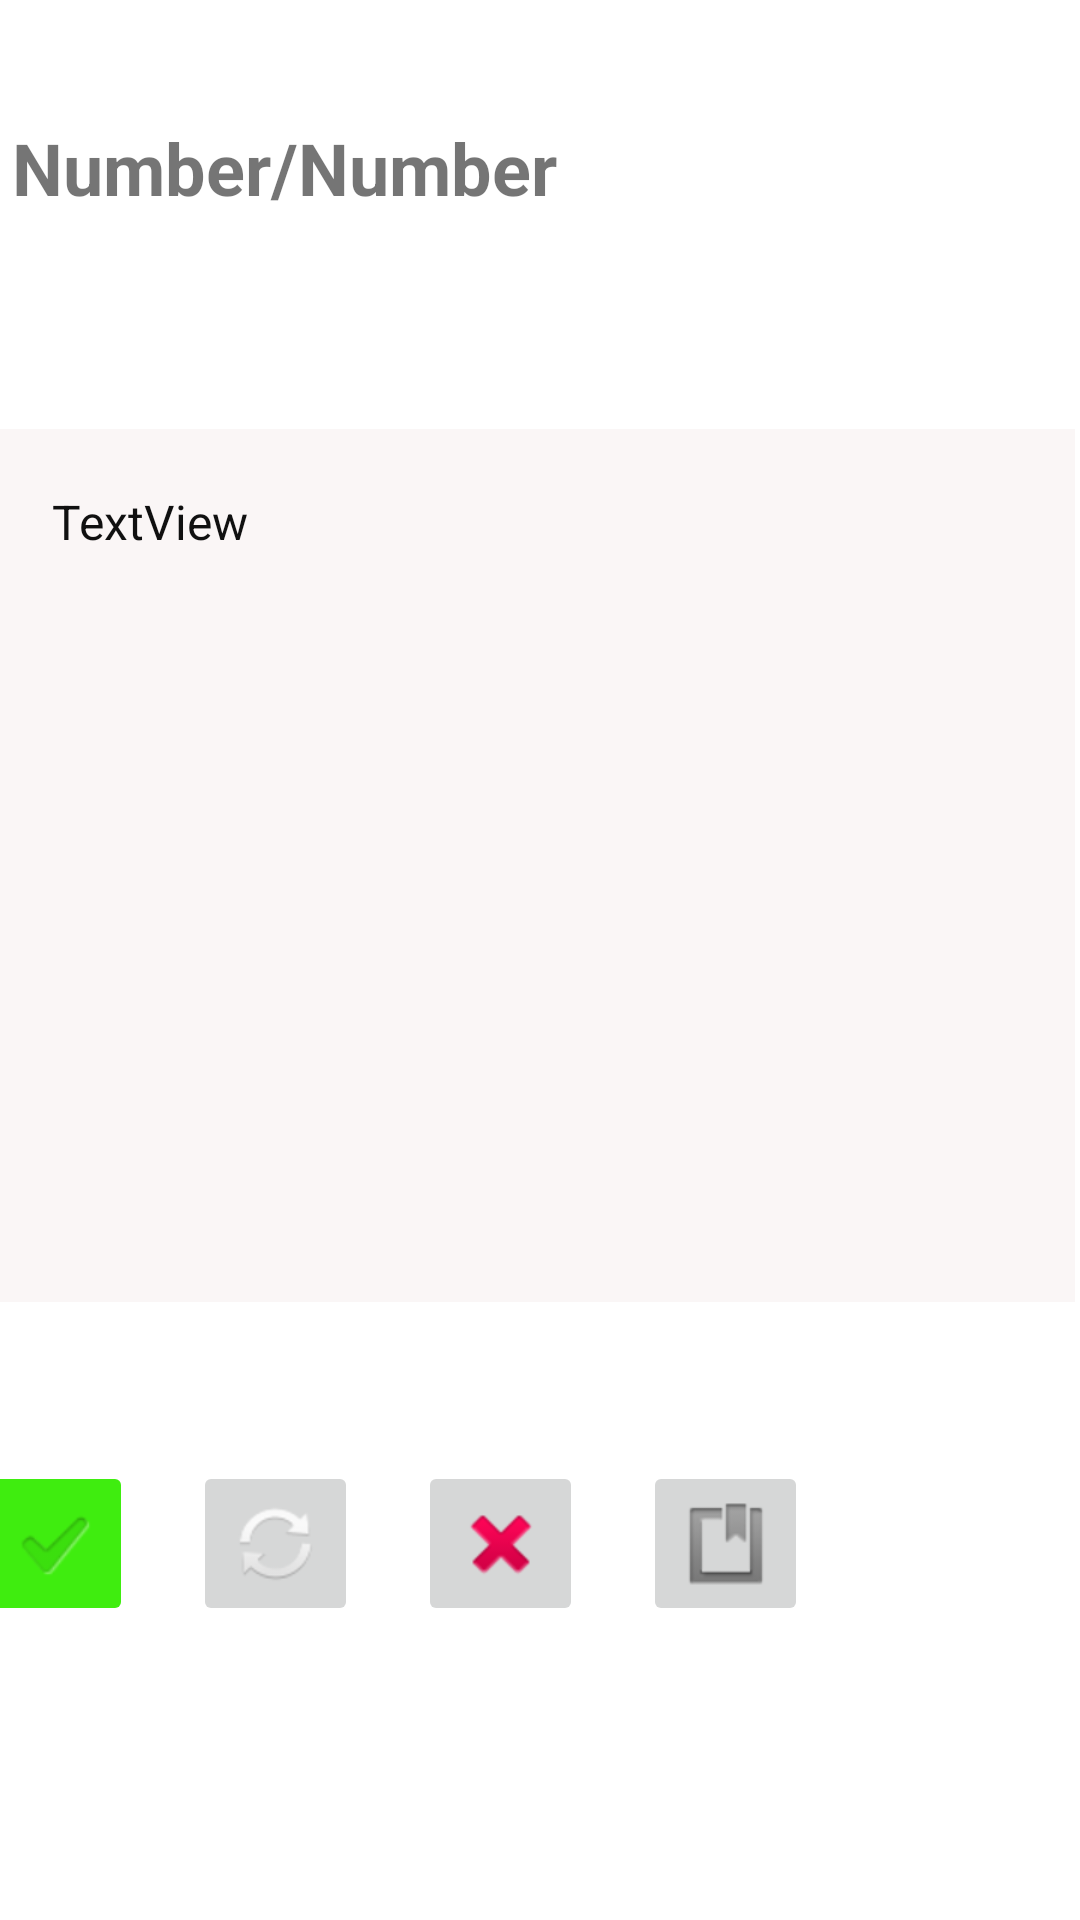

Screen size 1080×1920. Icon name, then its box in pixels as (x1, y1, x2, y2):
delete: (430, 1479, 571, 1608)
popup sync: (205, 1479, 346, 1608)
